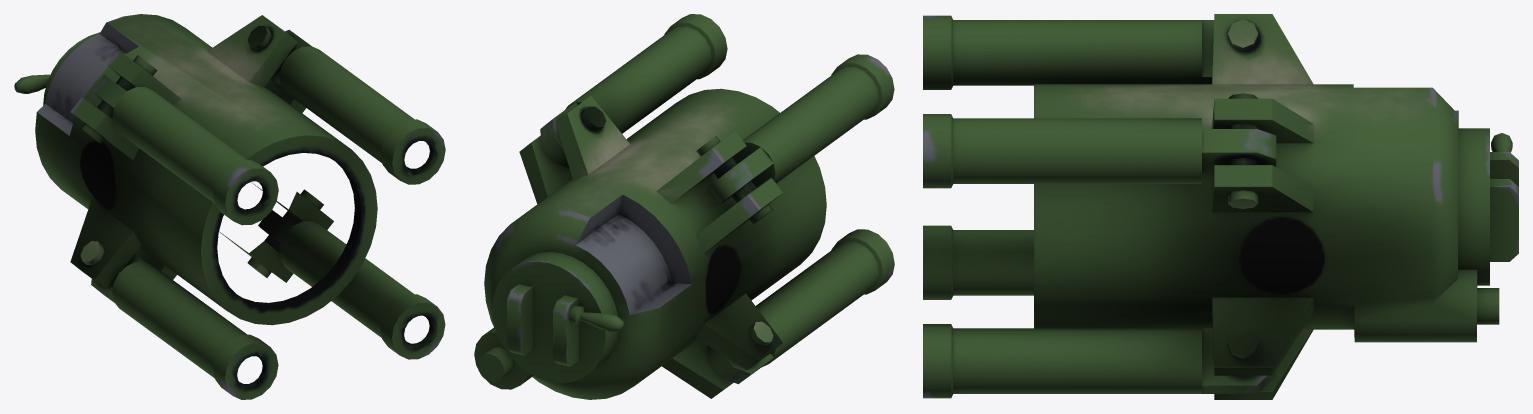
Rendered from cannon_barrel_base.gltf.
The picture shows the model from 3 angles, left to right: view 1: azimuth 30°, elevation 25°; view 2: azimuth 150°, elevation 25°; view 3: azimuth 270°, elevation 25°; orthographic projection. The views are drawn at different scales.
Parts seen in each view (by area): view 1: barrel_base_geo; view 2: barrel_base_geo; view 3: barrel_base_geo.
Boxes of the visible parts, x1,y1,x2,y2 form: barrel_base_geo: (14, 14, 445, 399); barrel_base_geo: (474, 14, 894, 399); barrel_base_geo: (923, 14, 1518, 399).
Bounding box in the file's own units: 0.8381 × 0.8379 × 1.5.
1 material, 1 textured.
